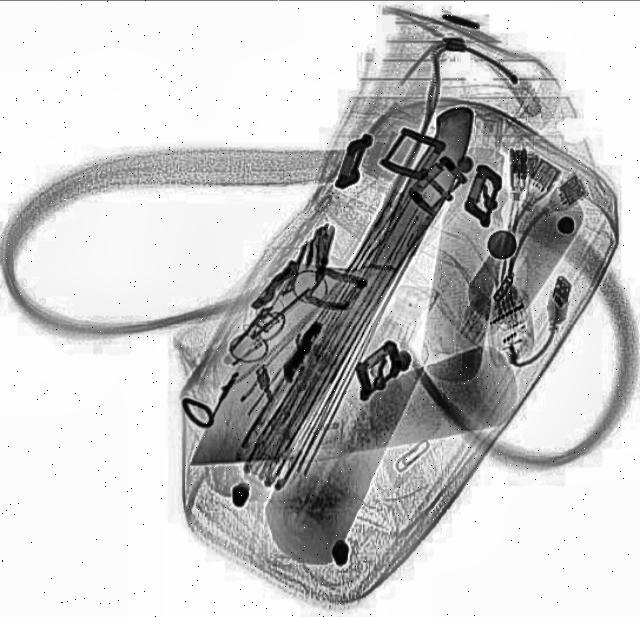Knife: (185, 80, 492, 504)
